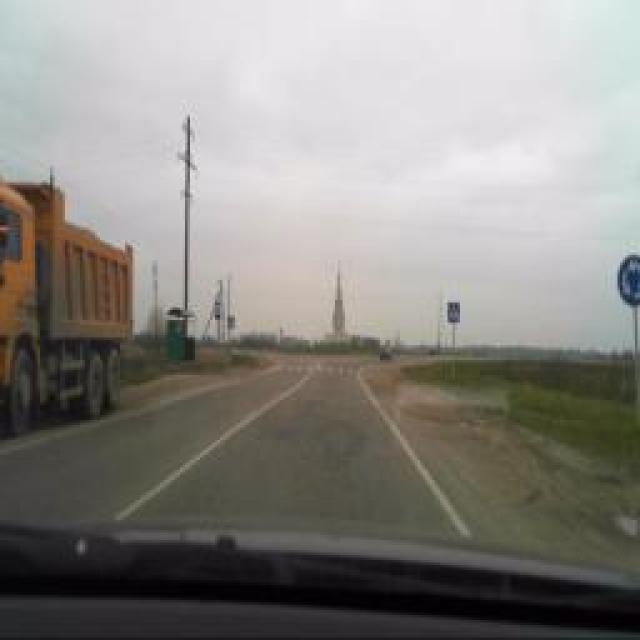sign: (618, 245, 638, 315), (448, 301, 460, 324), (226, 314, 234, 328)
